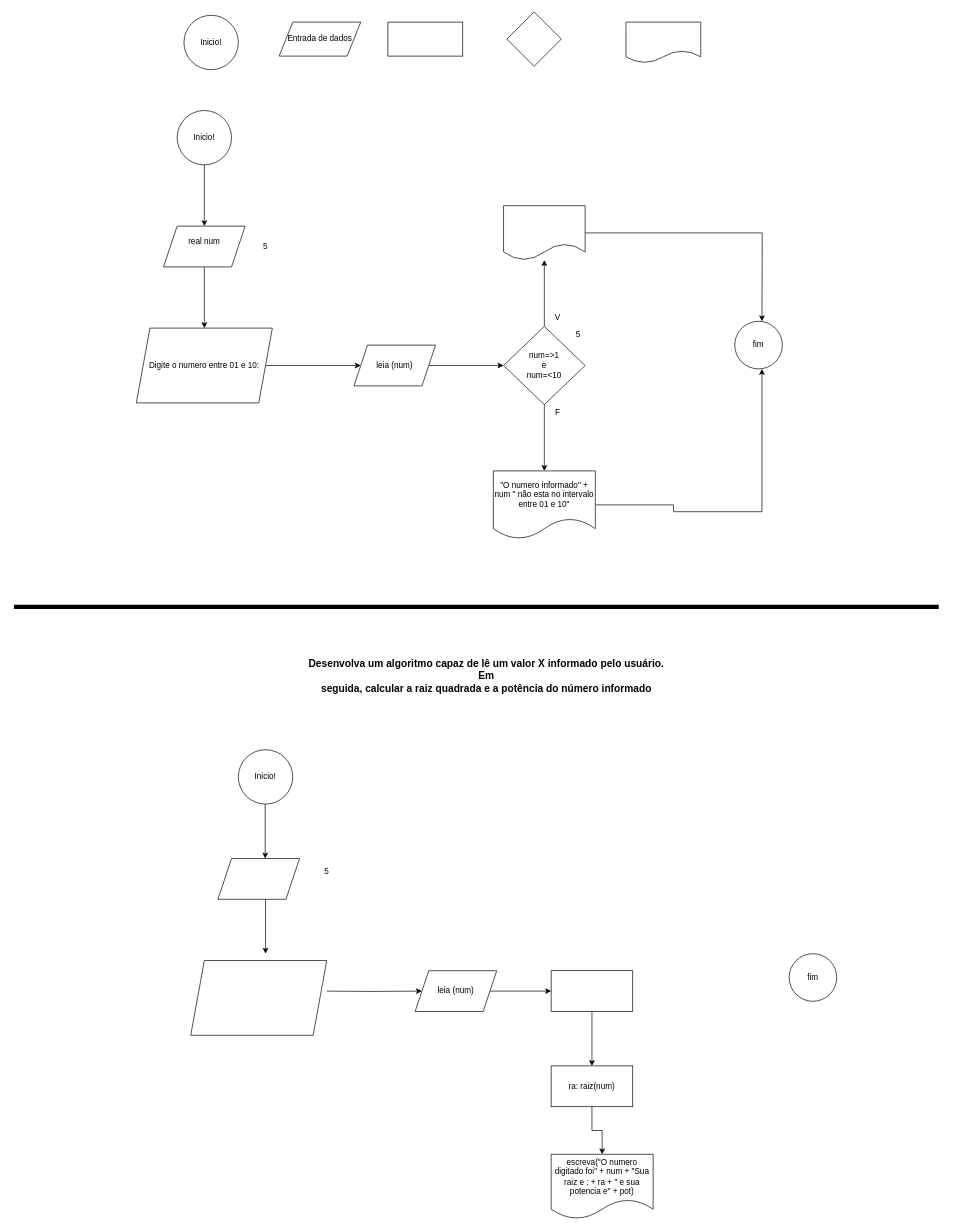
The diagram is 953 pixels wide and 1231 high, and some of its shapes have lost their labels. The centre of each missing label's shape, as x and y in pixels:
"O numero informado" + num "esta no intervalo entre 01 e 10": (544,232)
Decisões Validar: (533,38)
Digite o numero:: (258,997)
Inteiro num intero pot inteiro ra: (258,878)
pot: num * num: (591,991)
Processamento de dados: (425,38)
Saída de dados impressão: (663,42)
